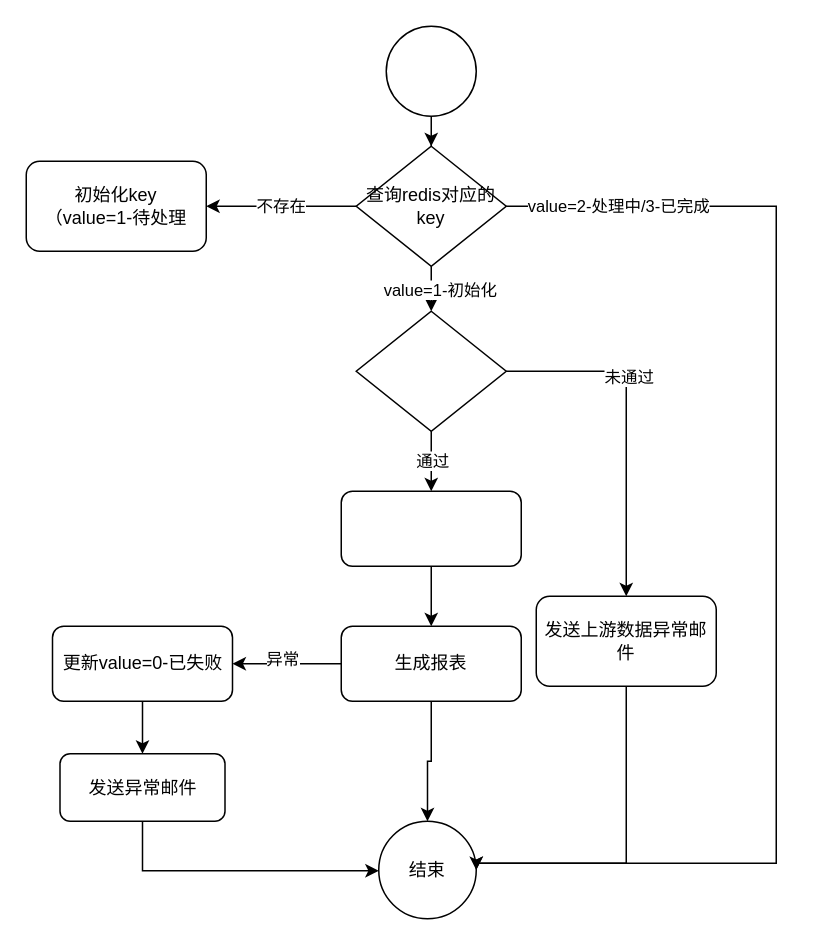
This 815x945 diagram has some shape labels left out. Here are the shapes that lost their labels. From the top down, the centre of each, then its label:
At point (430, 70): "定时".
At point (430, 370): "校验上游数据".
At point (430, 528): "更新value=2-进行中".
